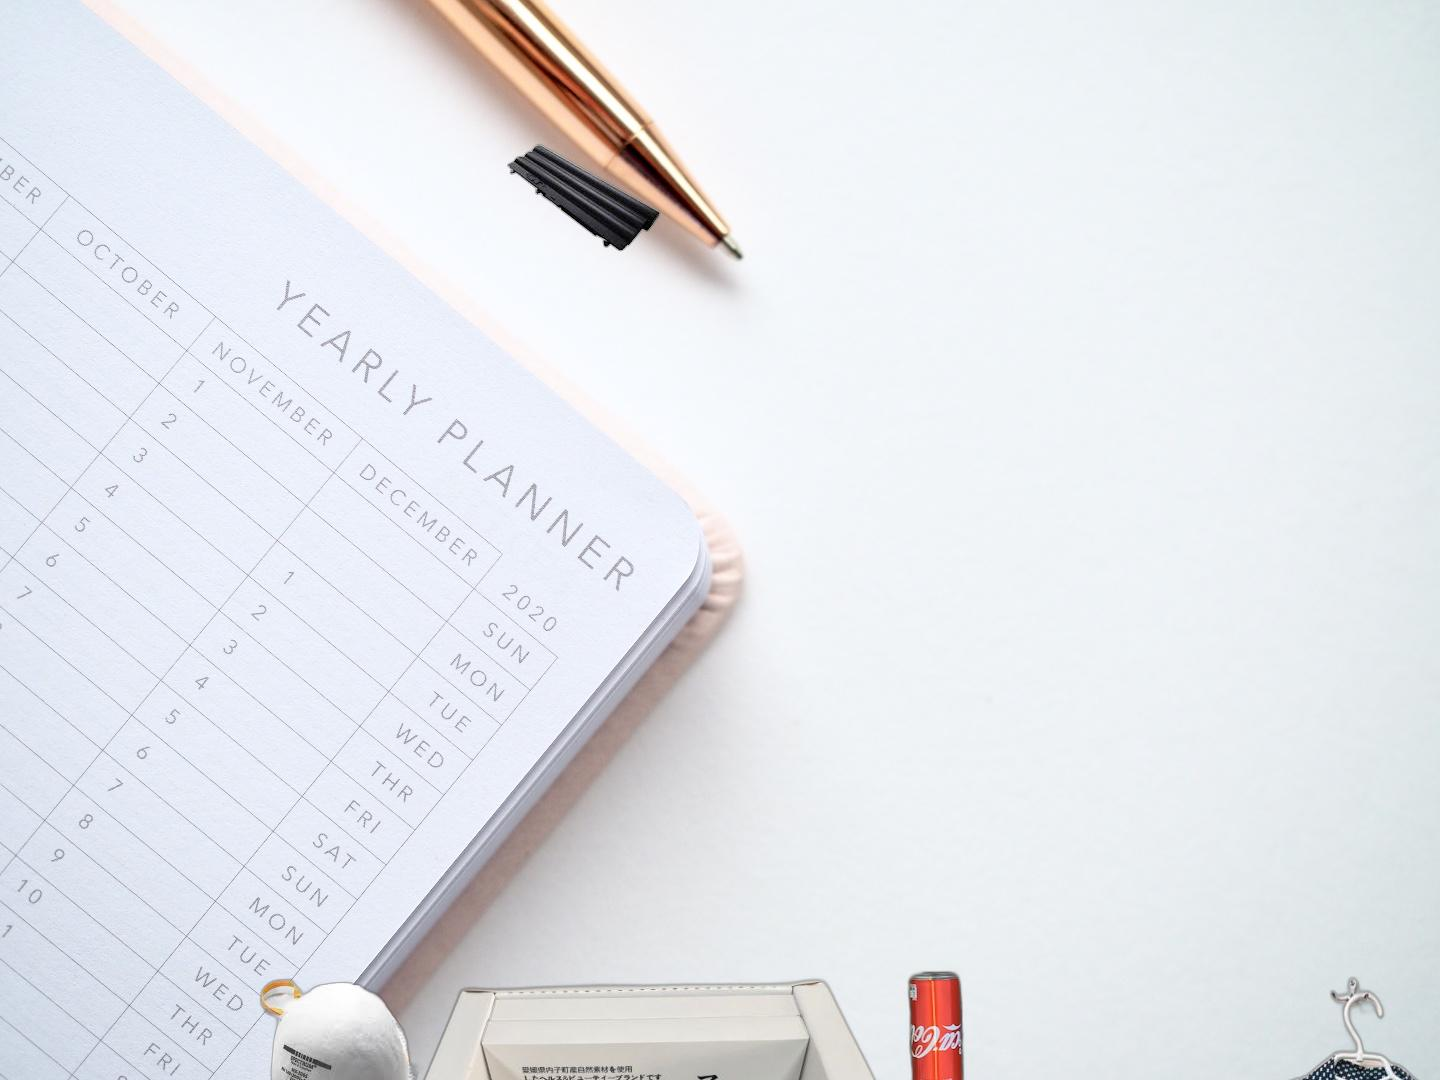battery: (505, 142, 663, 254)
clothes: (1194, 971, 1440, 1080)
metal-cans: (904, 965, 969, 1080)
trash: (259, 976, 439, 1080)
trashbox-cardboard: (401, 976, 896, 1080)
